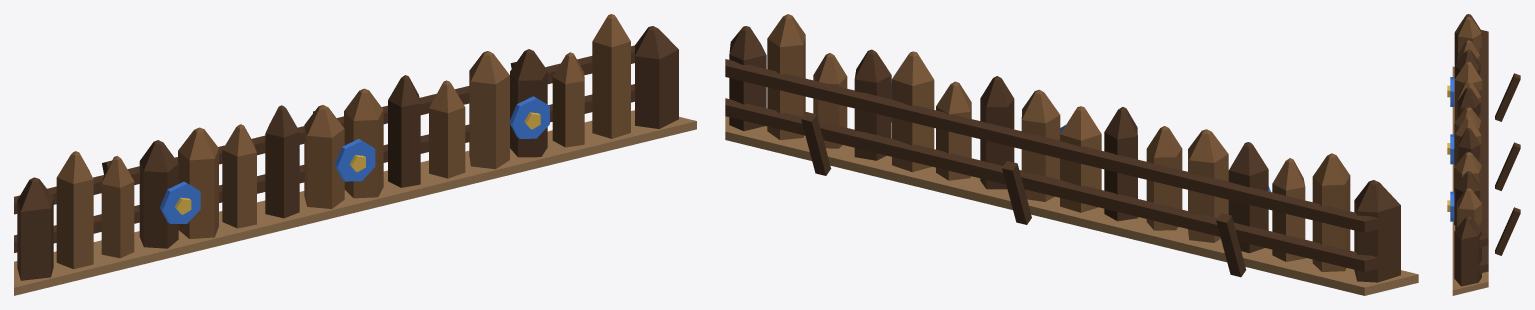
Rendered from wall_seg_0.glb.
3 renders of one model, left to right at view 1: azimuth 30°, elevation 25°; view 2: azimuth 150°, elevation 25°; view 3: azimuth 270°, elevation 25°, orthographic. The views are drawn at different scales.
Visible parts, largest first — view 1: wall_seg_0; view 2: wall_seg_0; view 3: wall_seg_0.
Boxes of the visible parts, x1,y1,x2,y2 form: wall_seg_0: (14,14,696,295); wall_seg_0: (725,14,1418,295); wall_seg_0: (1447,14,1520,295).
Bounding box in the file's own units: 1.04 × 0.1833 × 0.144.
